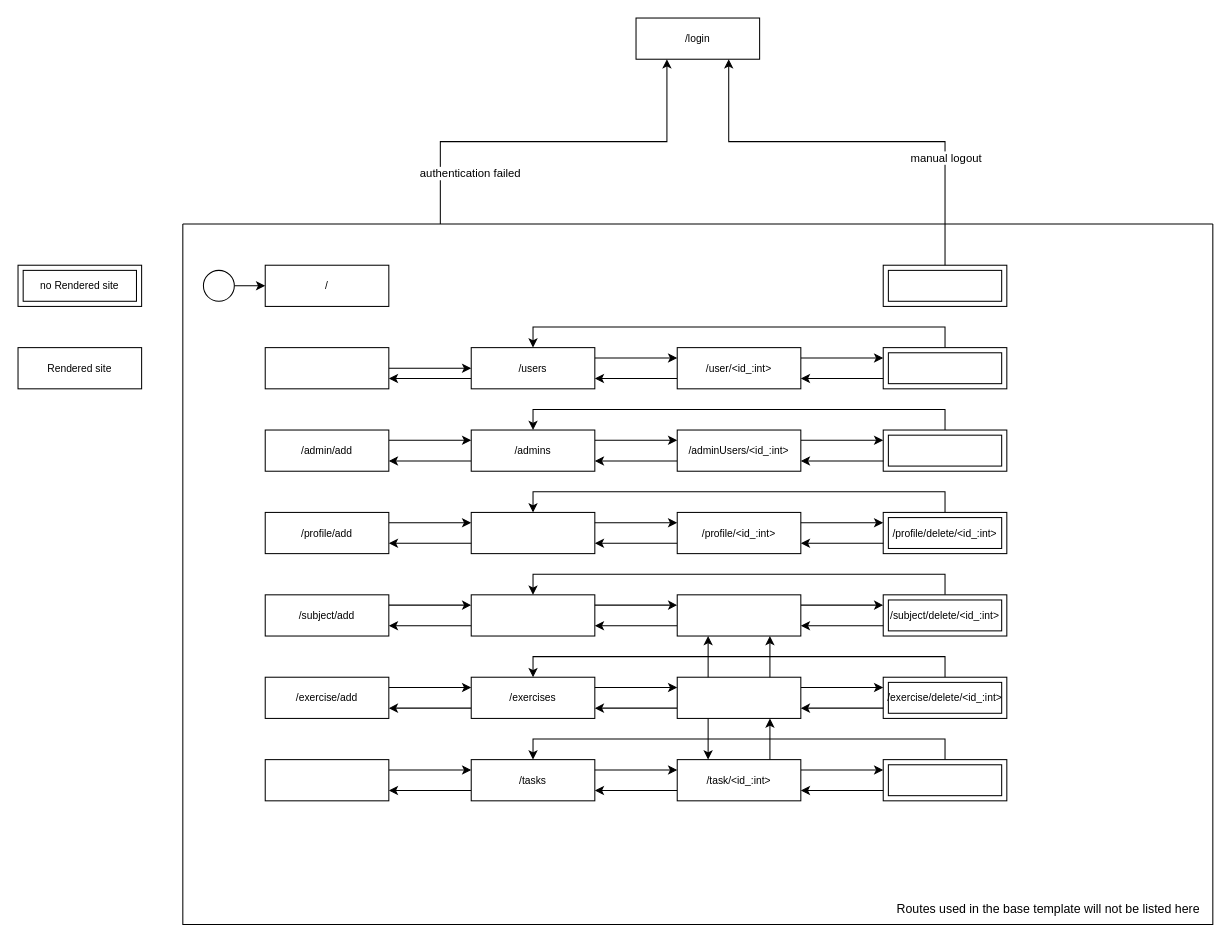
This 1231x942 diagram has some shape labels left out. The shapes that lost their labels are listed below. From the top down, each one's centre as x and y in pixels, then its label:
At point (944, 285): "/logout".
At point (326, 368): "/user/add".
At point (944, 368): "/user/delete/<id_:int>".
At point (944, 450): "/admin/delete/<id_:int>".
At point (532, 532): "/profiles".
At point (532, 615): "/subjects".
At point (738, 615): "/subject/<id_:int>".
At point (738, 697): "/exercise/<id_:int>".
At point (326, 780): "/task/add".
At point (944, 780): "/task/delete/<id_:int>".
